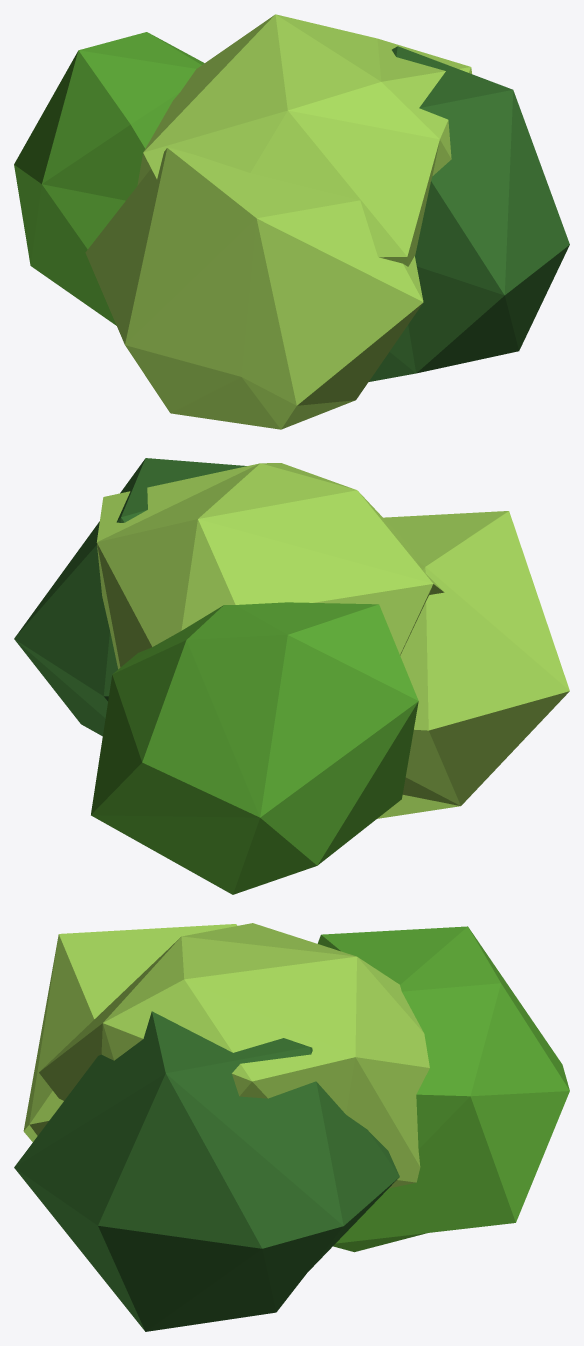
Rendered from bush_1_lod1.glb.
3 views of the same model, one above another, from view 1: azimuth 30°, elevation 25°; view 2: azimuth 150°, elevation 25°; view 3: azimuth 270°, elevation 25° (orthographic). The views are drawn at different scales.
Parts seen in each view (by area): view 1: bush_1_lod1; view 2: bush_1_lod1; view 3: bush_1_lod1.
Boxes of the visible parts, x1,y1,x2,y2 form: bush_1_lod1: (14,14,569,429); bush_1_lod1: (14,458,569,894); bush_1_lod1: (14,923,569,1331).
Bounding box in the file's own units: 1.79 × 1.19 × 1.79.
